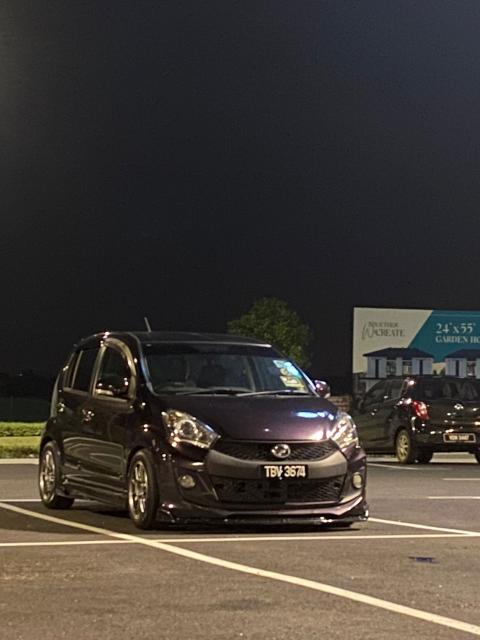License_Plate: (257, 463, 320, 484)
car: (37, 330, 370, 535)
